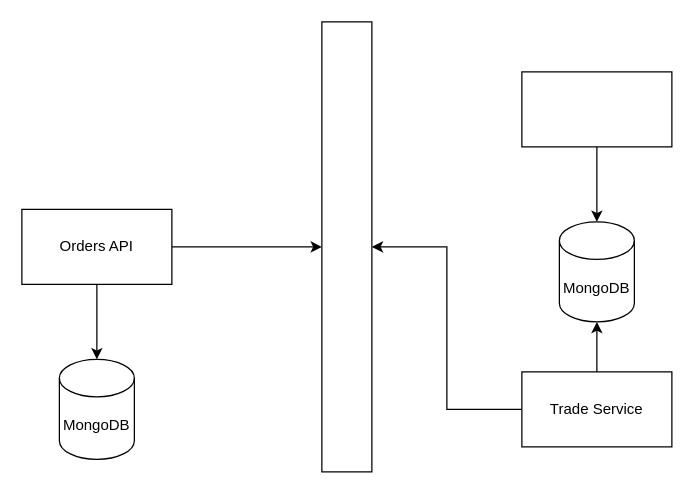
Image size: 694x494. Some labels were removed from this diagram. Each missing label, with the box of its shape:
Kafka: (321, 21, 372, 472)
Wallet API: (521, 71, 672, 147)
